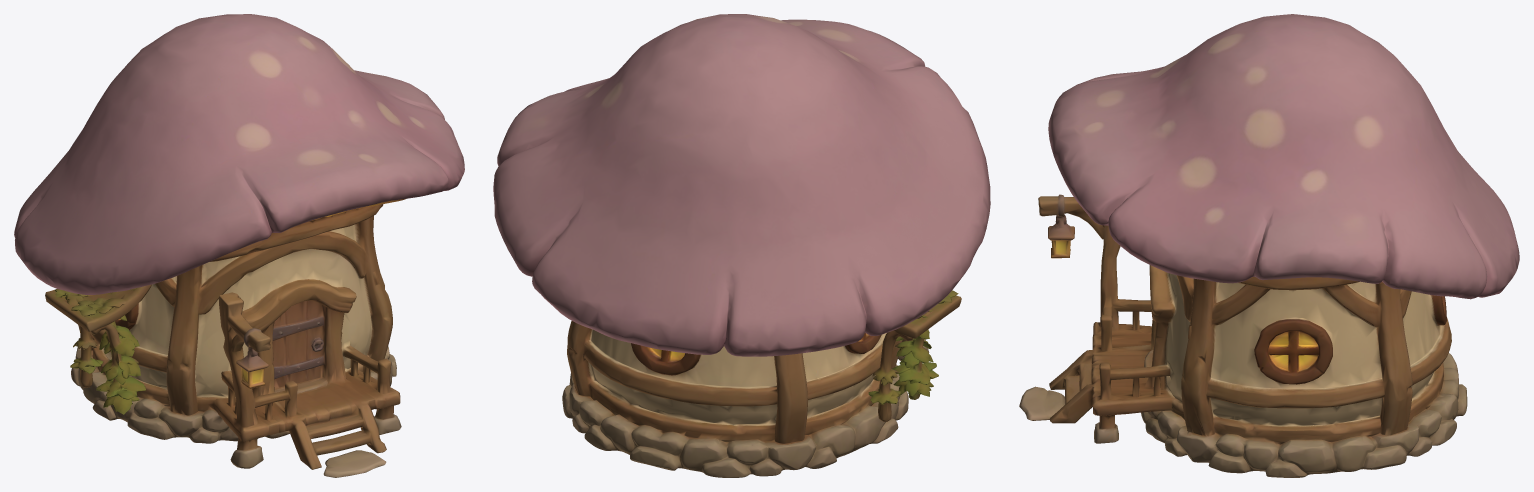
File: mush_cottage.glb
3 views of the same model, side by side, from view 1: azimuth 30°, elevation 25°; view 2: azimuth 150°, elevation 25°; view 3: azimuth 270°, elevation 25° (orthographic). The views are drawn at different scales.
Visible parts, largest first — view 1: tripo_node_1f0d1fe2-595c-411b-a671-151d5dfa987e; view 2: tripo_node_1f0d1fe2-595c-411b-a671-151d5dfa987e; view 3: tripo_node_1f0d1fe2-595c-411b-a671-151d5dfa987e.
Boxes of the visible parts, x1=… form: tripo_node_1f0d1fe2-595c-411b-a671-151d5dfa987e: x1=14, y1=14, x2=464, y2=477; tripo_node_1f0d1fe2-595c-411b-a671-151d5dfa987e: x1=493, y1=14, x2=990, y2=477; tripo_node_1f0d1fe2-595c-411b-a671-151d5dfa987e: x1=1019, y1=14, x2=1519, y2=477.
Size of the model in its own units: 0.951 by 0.8173 by 0.9817.
1 material, 1 textured.
